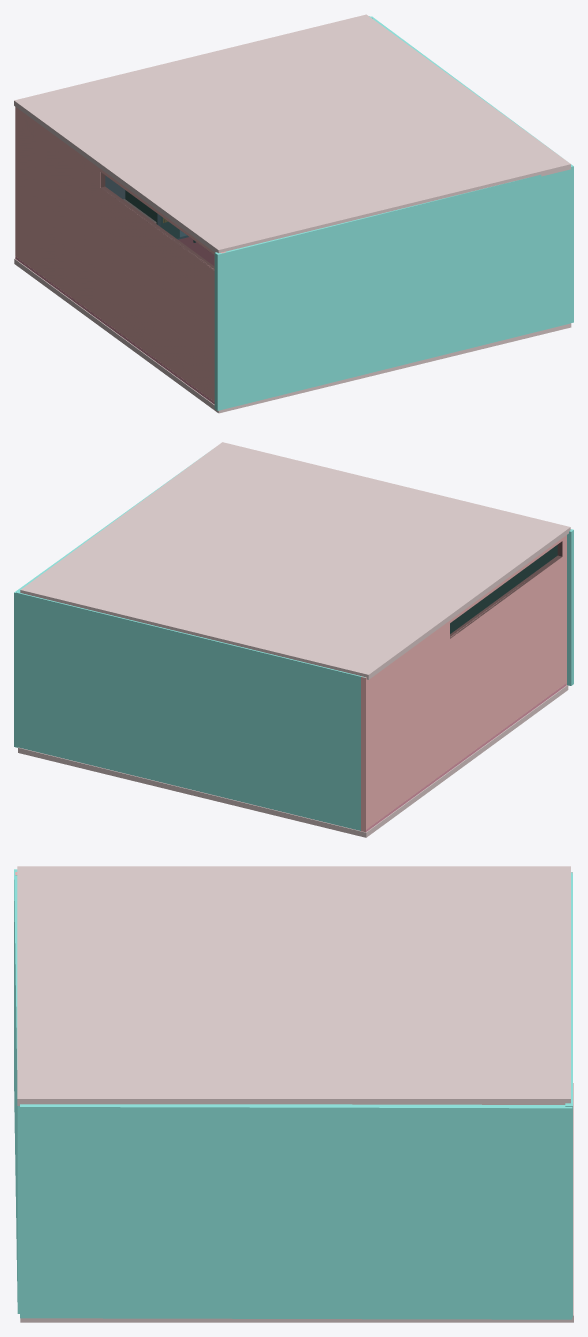
The model's file is smallbathroom.glb.
The picture shows the model from 3 angles, top to bottom: view 1: azimuth 30°, elevation 25°; view 2: azimuth 150°, elevation 25°; view 3: azimuth 270°, elevation 25°; orthographic projection. The views are drawn at different scales.
Parts seen in each view (by area): view 1: polySurface407, polySurface289, polySurface405, polySurface402, polySurface301; view 2: polySurface407, polySurface289, polySurface405, polySurface402, polySurface301; view 3: polySurface407, polySurface289.
Boxes of the visible parts, x1,y1,x2,y2 form: polySurface407: [14, 14, 571, 413]; polySurface289: [214, 16, 573, 410]; polySurface405: [15, 107, 225, 401]; polySurface402: [100, 172, 214, 270]; polySurface301: [15, 237, 214, 404]; polySurface407: [18, 442, 570, 837]; polySurface289: [14, 454, 573, 830]; polySurface405: [361, 535, 566, 832]; polySurface402: [450, 541, 562, 638]; polySurface301: [366, 683, 566, 831]; polySurface407: [17, 866, 573, 1322]; polySurface289: [14, 869, 572, 1319].
Size of the model in its own units: 4.19 by 1.83 by 4.16.
Materials: 80 (80 with a texture image).
